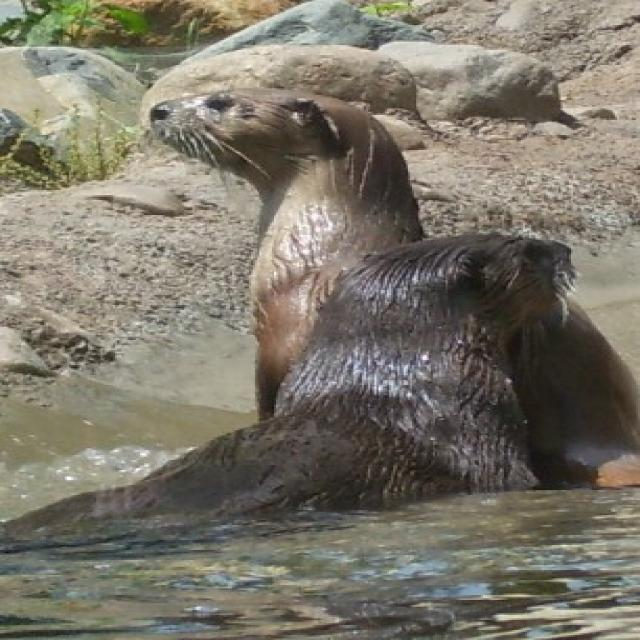otter: (152, 89, 640, 454), (1, 234, 575, 531)
